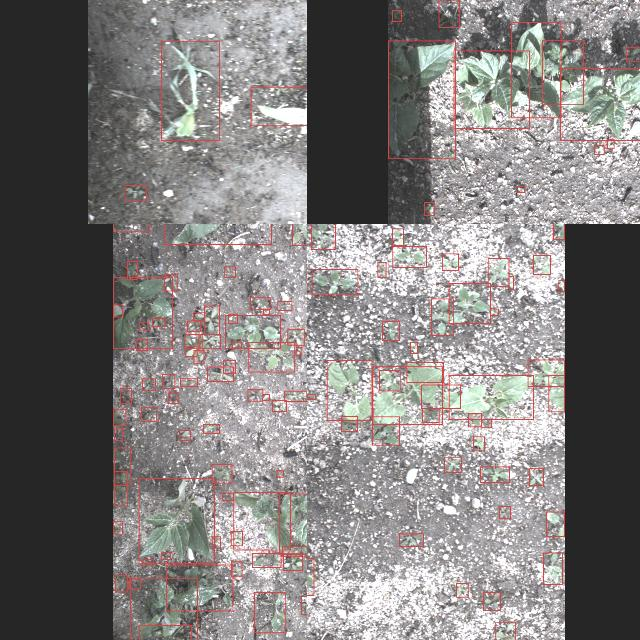crop: (388, 41, 454, 159), (138, 478, 214, 564), (160, 41, 220, 141), (453, 51, 529, 129), (560, 68, 640, 140), (511, 22, 561, 118), (114, 278, 172, 348), (373, 366, 443, 424), (448, 375, 534, 419), (233, 492, 290, 550), (326, 360, 372, 420), (251, 86, 307, 125), (279, 493, 307, 554), (421, 385, 461, 409), (549, 374, 565, 412), (112, 305, 122, 317)
weed: (130, 578, 197, 640), (165, 565, 232, 611), (542, 40, 584, 104), (225, 316, 281, 348), (450, 284, 490, 324), (248, 342, 294, 372), (253, 593, 284, 633), (312, 269, 358, 295), (528, 359, 564, 386), (431, 298, 453, 336), (372, 417, 400, 445), (139, 625, 191, 640), (406, 362, 444, 382), (392, 246, 426, 268), (543, 552, 563, 584), (310, 224, 335, 249), (488, 258, 509, 286), (114, 448, 130, 484), (439, 0, 459, 26), (480, 466, 510, 482), (547, 512, 565, 536), (378, 371, 399, 391), (207, 366, 233, 382), (114, 472, 126, 506), (212, 464, 232, 484), (204, 306, 218, 334), (252, 553, 280, 567), (496, 621, 516, 640), (382, 322, 400, 341), (284, 553, 302, 571), (533, 256, 551, 274), (292, 224, 307, 245), (124, 186, 146, 200), (198, 334, 220, 348), (484, 592, 501, 610), (399, 534, 423, 546), (282, 545, 307, 556), (288, 329, 304, 345), (443, 254, 459, 270), (341, 416, 357, 432), (184, 334, 202, 348), (422, 408, 440, 422), (444, 458, 462, 472), (530, 468, 544, 486), (284, 391, 306, 402), (140, 407, 156, 421), (112, 410, 126, 426), (307, 558, 313, 595), (164, 274, 176, 292), (250, 298, 270, 308), (626, 48, 640, 62), (115, 576, 127, 592), (127, 261, 137, 279), (392, 228, 402, 246), (553, 224, 564, 240), (142, 379, 156, 391), (162, 374, 174, 388), (231, 532, 243, 546), (468, 414, 482, 426), (456, 583, 468, 597), (203, 424, 219, 434), (120, 388, 130, 404), (223, 361, 235, 374), (272, 401, 286, 412), (180, 378, 198, 386), (187, 321, 200, 332), (194, 350, 204, 364), (248, 390, 262, 400), (232, 562, 242, 576), (424, 202, 434, 215), (474, 436, 484, 449), (378, 262, 386, 278), (391, 10, 401, 22), (224, 267, 236, 277), (178, 431, 190, 441), (128, 578, 140, 588), (500, 507, 510, 519), (278, 302, 292, 310), (152, 318, 164, 327), (301, 596, 307, 614), (112, 522, 121, 534), (136, 340, 146, 350), (168, 393, 178, 403), (482, 418, 492, 428), (192, 312, 204, 320), (114, 429, 122, 441), (212, 536, 220, 548), (221, 493, 233, 501), (186, 349, 197, 357), (410, 342, 418, 353), (508, 276, 514, 290), (594, 146, 604, 154), (138, 322, 148, 330), (228, 314, 236, 324), (559, 280, 565, 292), (162, 552, 170, 560), (608, 139, 614, 149), (232, 342, 242, 348), (142, 560, 152, 566), (516, 186, 524, 192), (296, 347, 302, 355), (276, 471, 284, 477), (490, 309, 498, 315), (263, 394, 269, 401), (307, 394, 314, 399), (263, 310, 269, 314)
